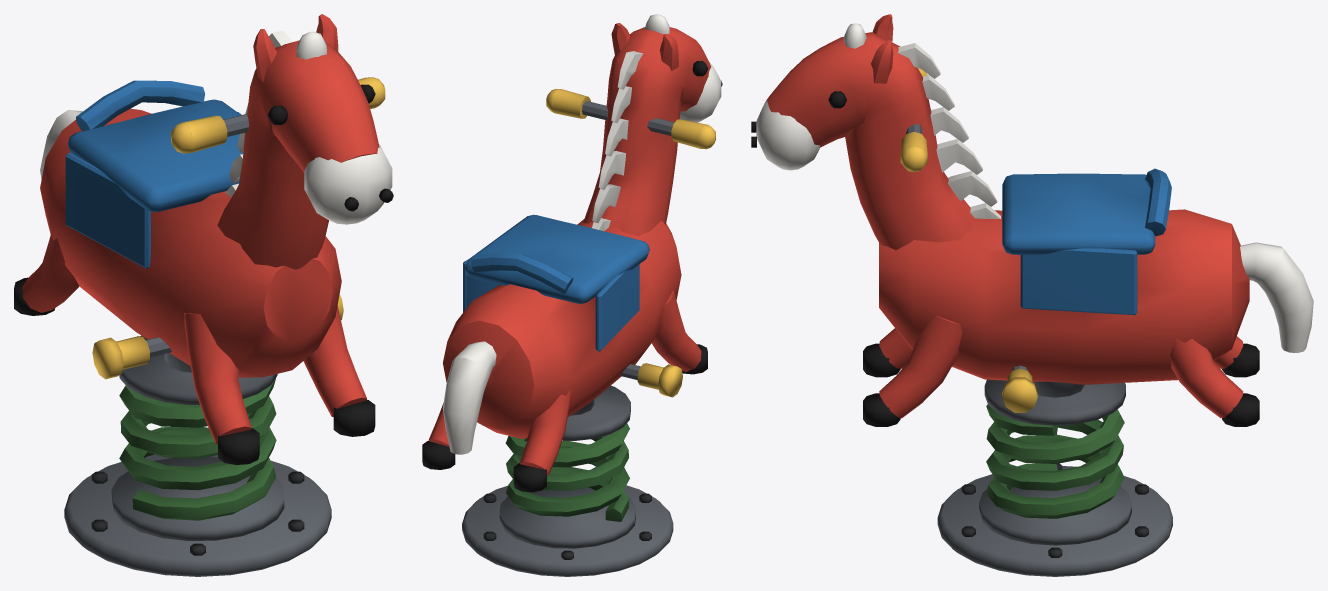
File: springRider.glb
3 views of the same model, side by side, from view 1: azimuth 30°, elevation 25°; view 2: azimuth 150°, elevation 25°; view 3: azimuth 270°, elevation 25° (orthographic). The views are drawn at different scales.
Visible parts, largest first — view 1: horse, spring; view 2: horse, spring; view 3: horse, spring.
Part boxes in pixels (<box>): horse: <box>14,14,393,464</box>; spring: <box>64,378,331,576</box>; horse: <box>422,14,722,492</box>; spring: <box>462,423,673,576</box>; horse: <box>751,14,1313,426</box>; spring: <box>937,404,1172,576</box>.
Size of the model in its own units: 0.4 by 0.949 by 0.9561.
